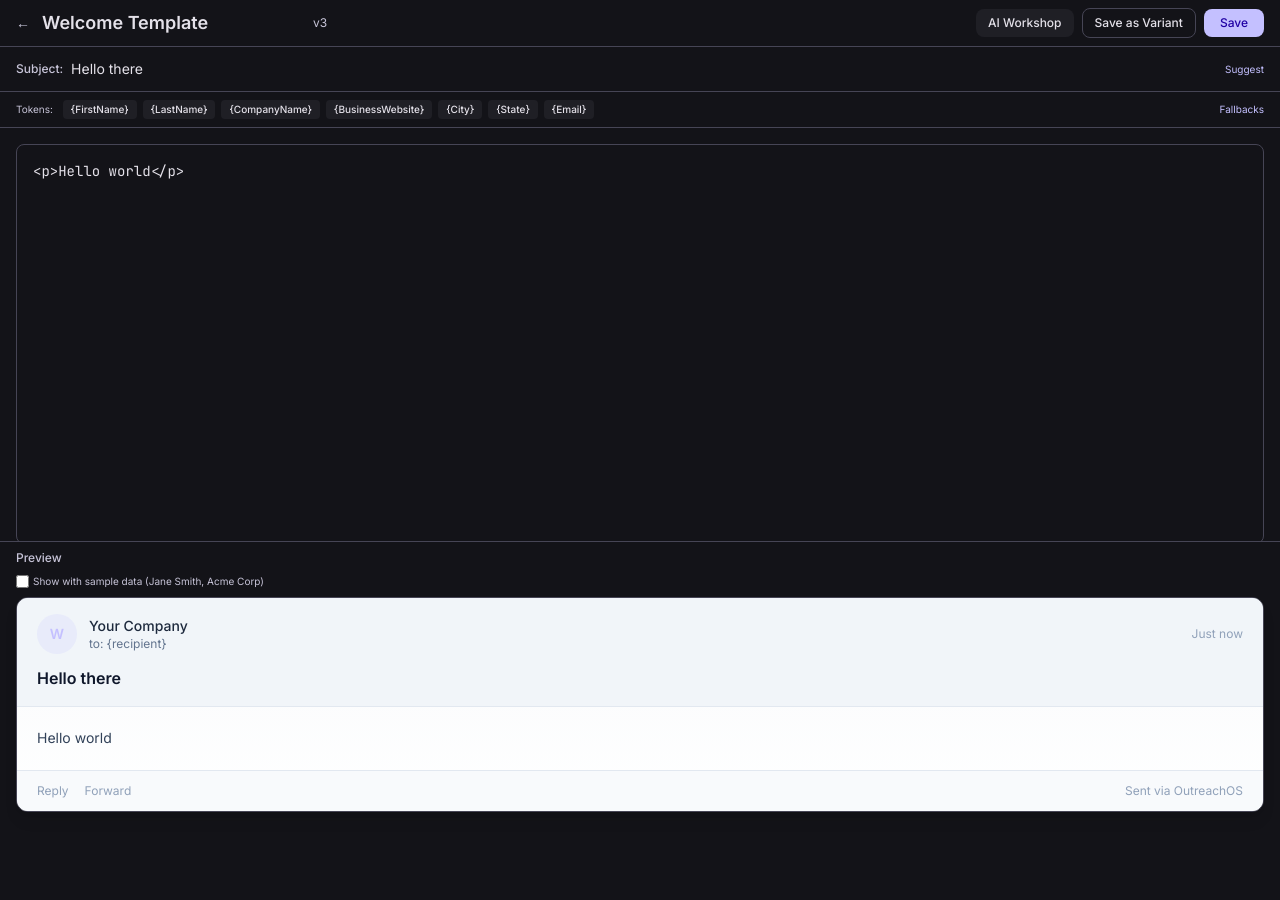
TemplateEditorPage › initializes from template data and saves changes
Replace the text in the 1st field showing "Welcome Template" with "Updated Template" at (172, 23), box top-left (42, 9), bottom-right (301, 37)
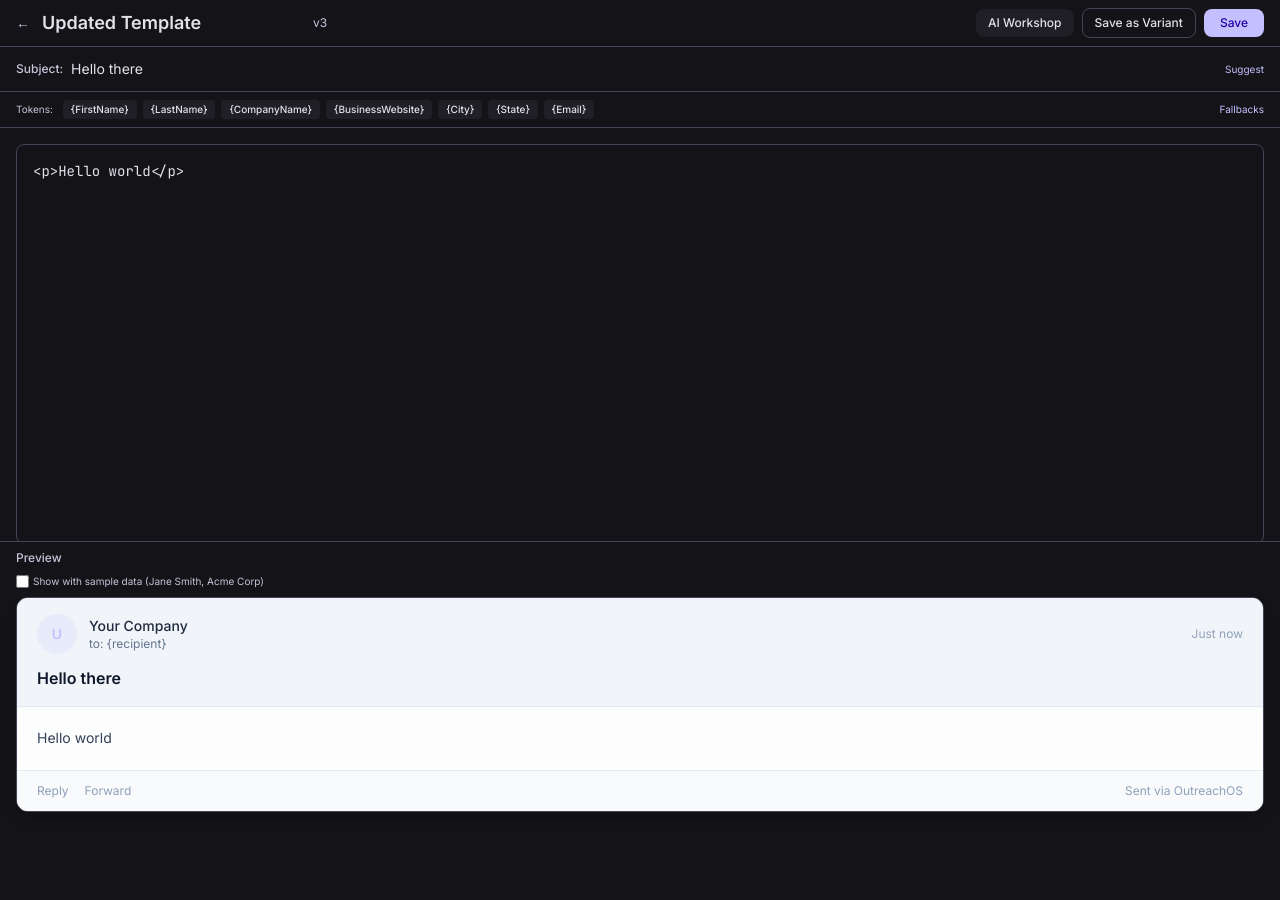
Replace the text in the field with placeholder "Enter subject line..." next to "Subject:" with "Updated subject" at (644, 69), box top-left (71, 59), bottom-right (1217, 79)
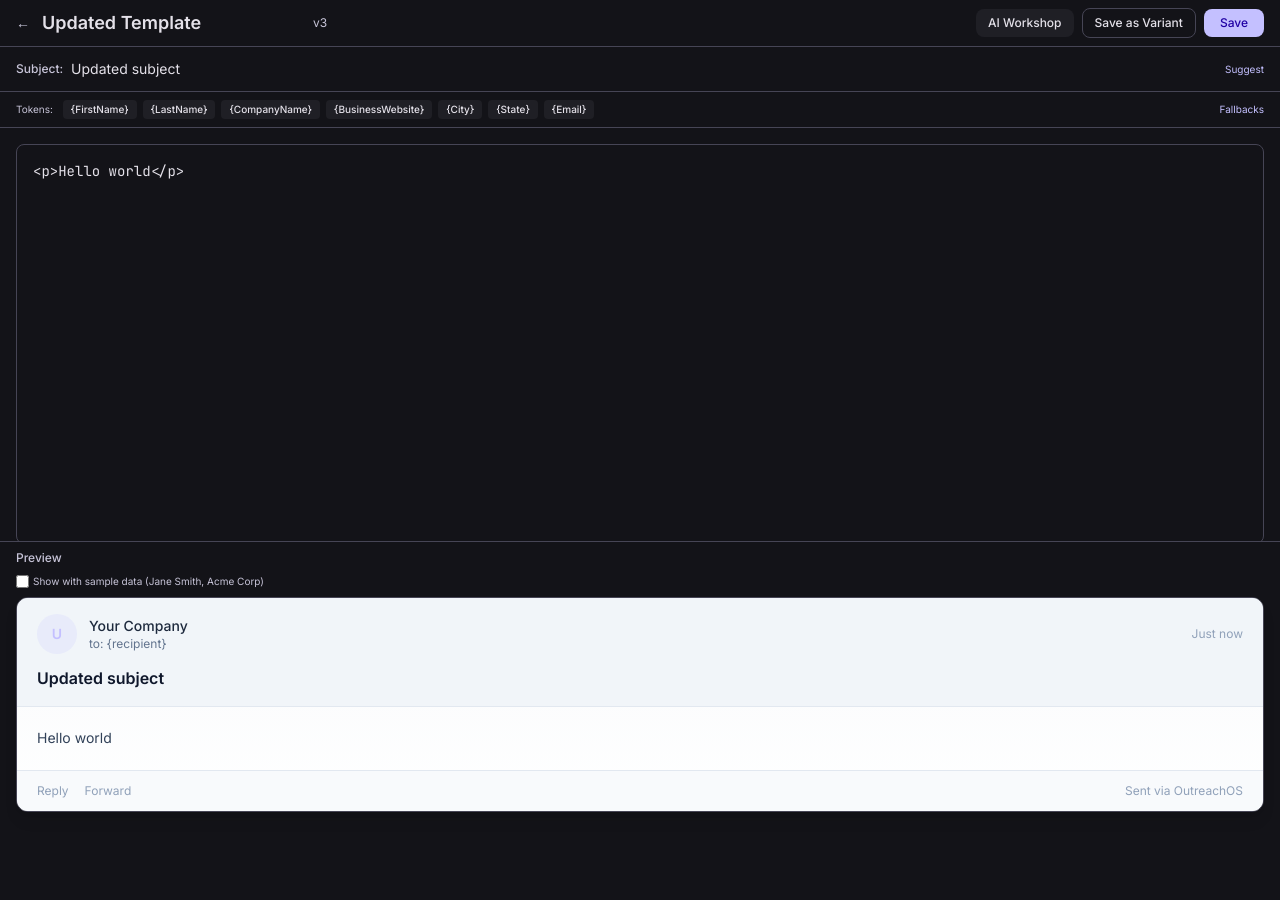
Clear the text box with placeholder "Write your email body here" at (640, 344), box top-left (16, 144), bottom-right (1264, 544)
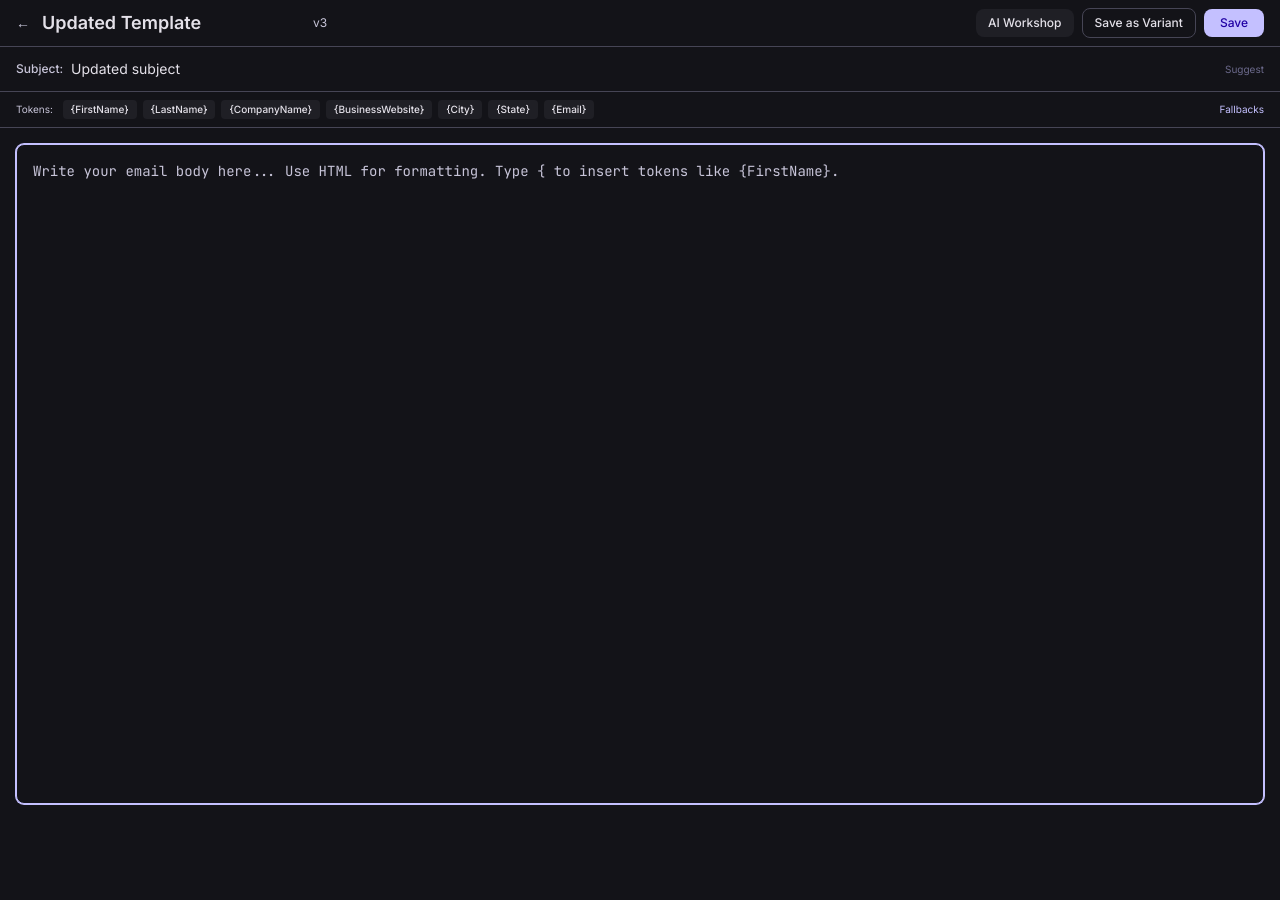
Type "Updated body" into the text box with placeholder "Write your email body here".
click(640, 474); type("Updated body")  # box top-left (16, 144), bottom-right (1264, 804)
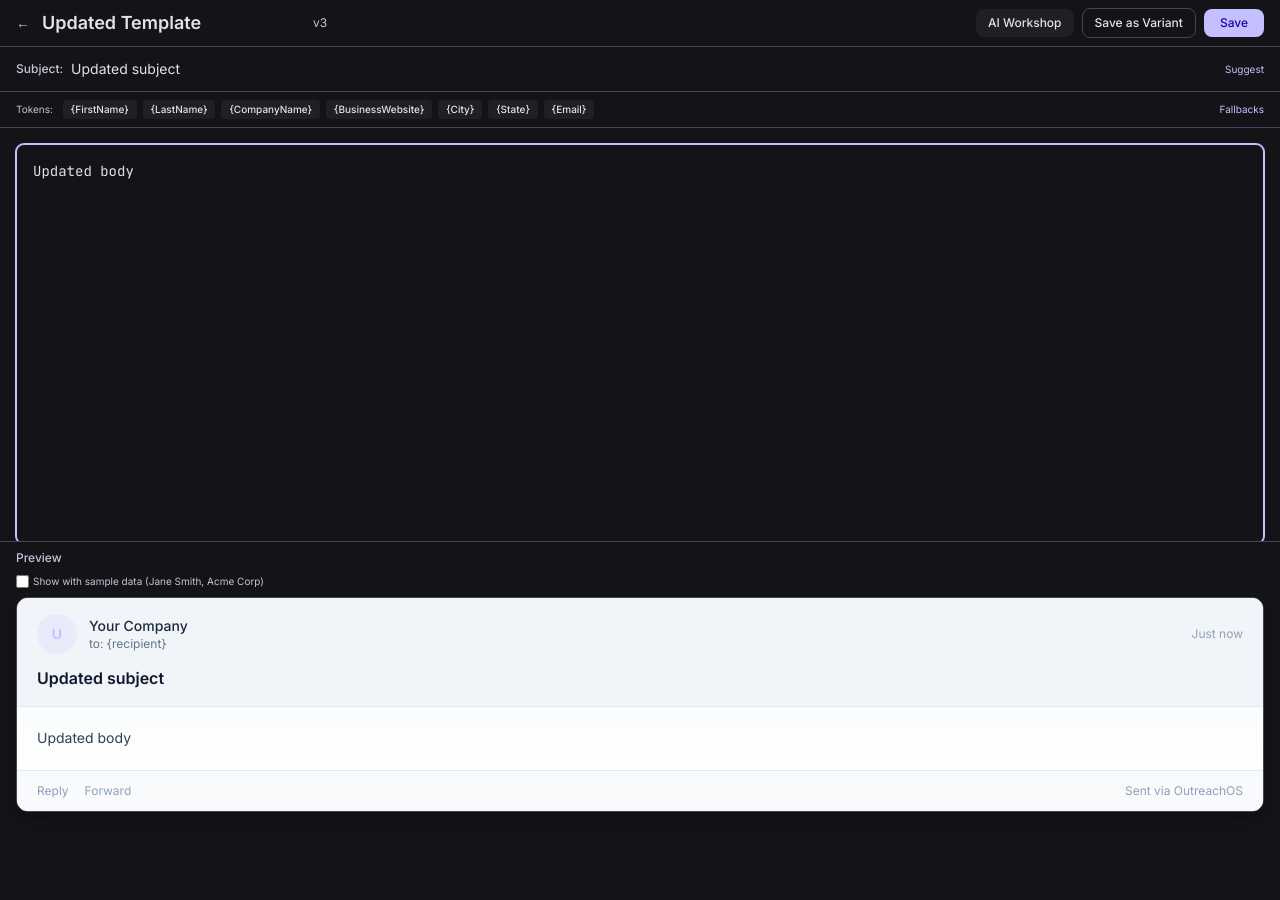
Click the button "Save".
click(1234, 23)  # box top-left (1204, 9), bottom-right (1264, 37)
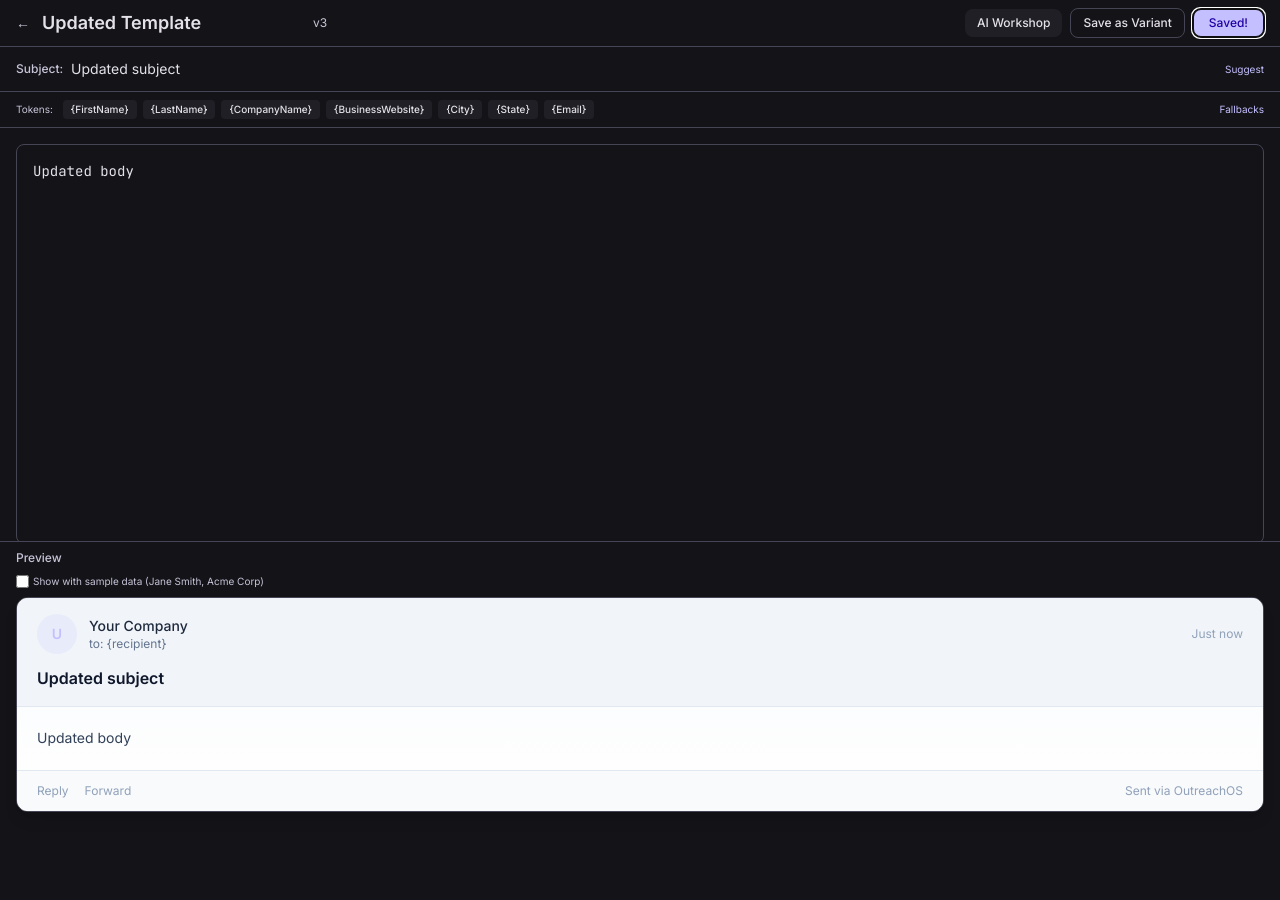
Expected: the button "Saved!" is shown, top-left (1193, 9), bottom-right (1264, 37)
